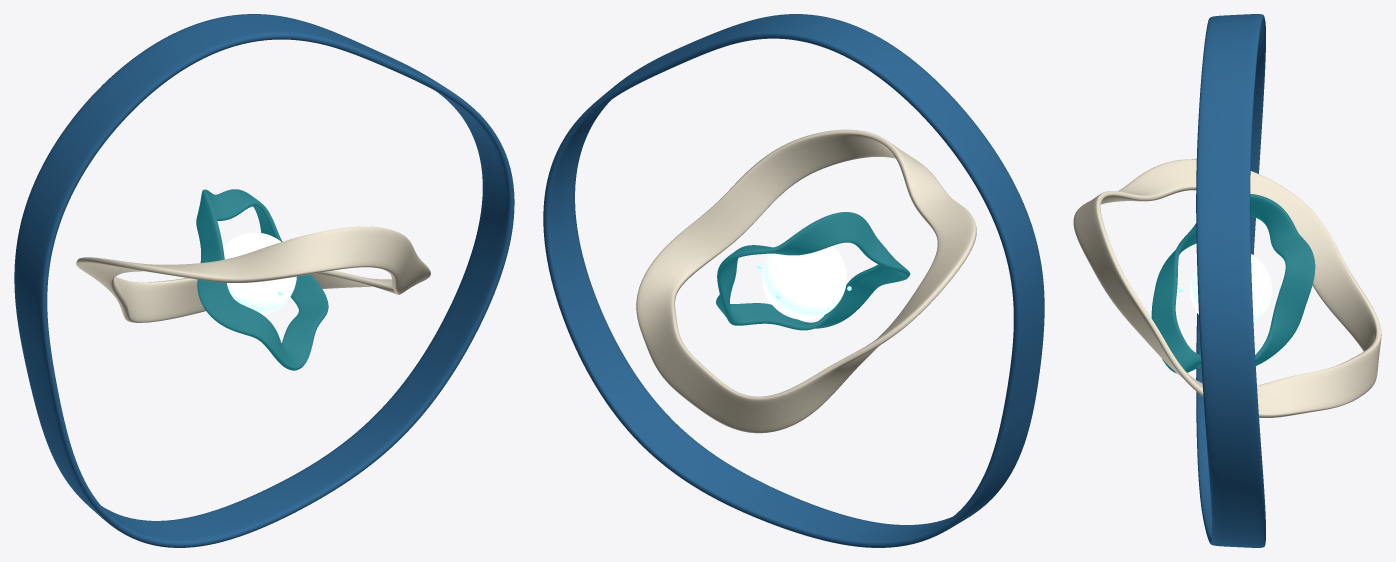
The model's file is energy-sculpture.glb.
3 views of the same model, side by side, from view 1: azimuth 30°, elevation 25°; view 2: azimuth 150°, elevation 25°; view 3: azimuth 270°, elevation 25° (orthographic). The views are drawn at different scales.
Visible parts, largest first — view 1: OuterBand, MiddleBand, InnerBand, CoreSphere; view 2: OuterBand, MiddleBand, InnerBand, CoreSphere; view 3: OuterBand, MiddleBand, InnerBand, CoreSphere.
Part boxes in pixels (x1,y1,x2,y2): OuterBand: [14, 14, 514, 547]; MiddleBand: [76, 226, 430, 322]; InnerBand: [196, 189, 328, 370]; CoreSphere: [223, 232, 296, 315]; OuterBand: [543, 14, 1044, 547]; MiddleBand: [636, 129, 976, 433]; InnerBand: [716, 212, 910, 330]; CoreSphere: [762, 238, 846, 319]; OuterBand: [1196, 14, 1265, 547]; MiddleBand: [1073, 159, 1381, 417]; InnerBand: [1151, 194, 1315, 373]; CoreSphere: [1190, 254, 1271, 323].
Bounding box in the file's own units: 9.39 × 9.44 × 5.41.
